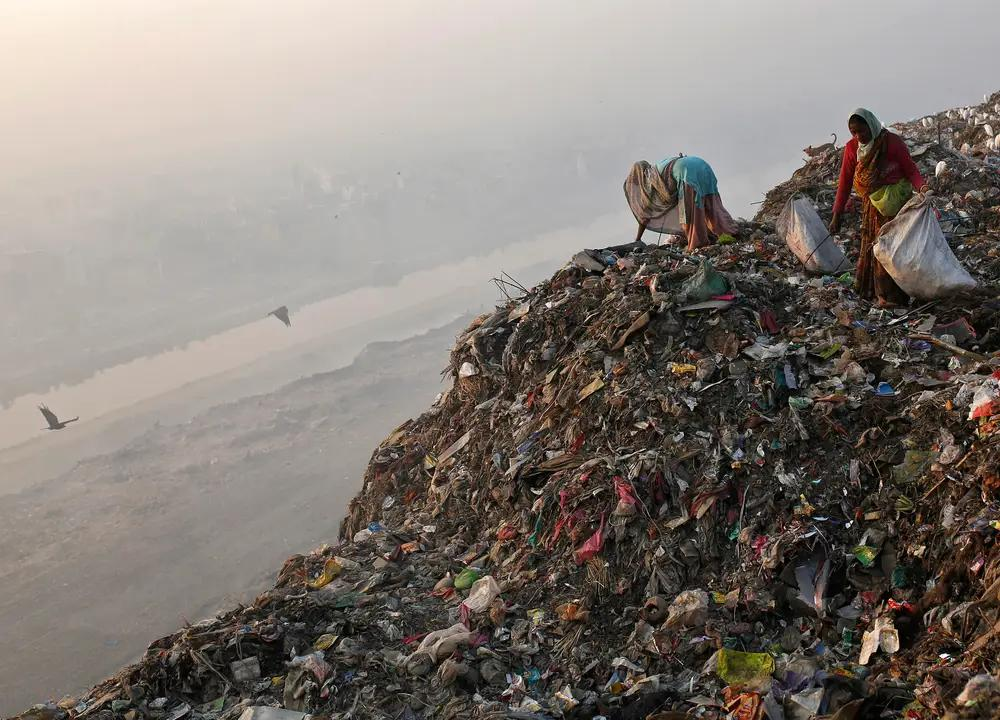garbage: (49, 238, 1000, 720)
